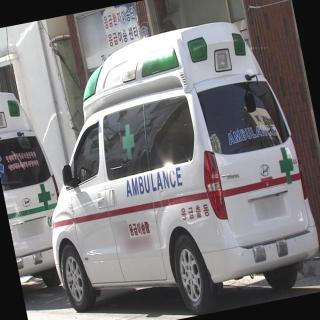Ambulance: (37, 1, 320, 315)
